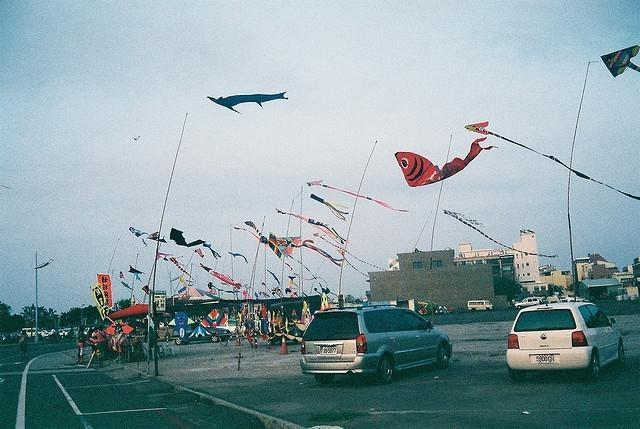bus: (467, 300, 493, 312)
car: (298, 304, 456, 382), (506, 301, 628, 381), (514, 297, 540, 309), (22, 327, 49, 338), (59, 329, 70, 338), (548, 297, 558, 303)
